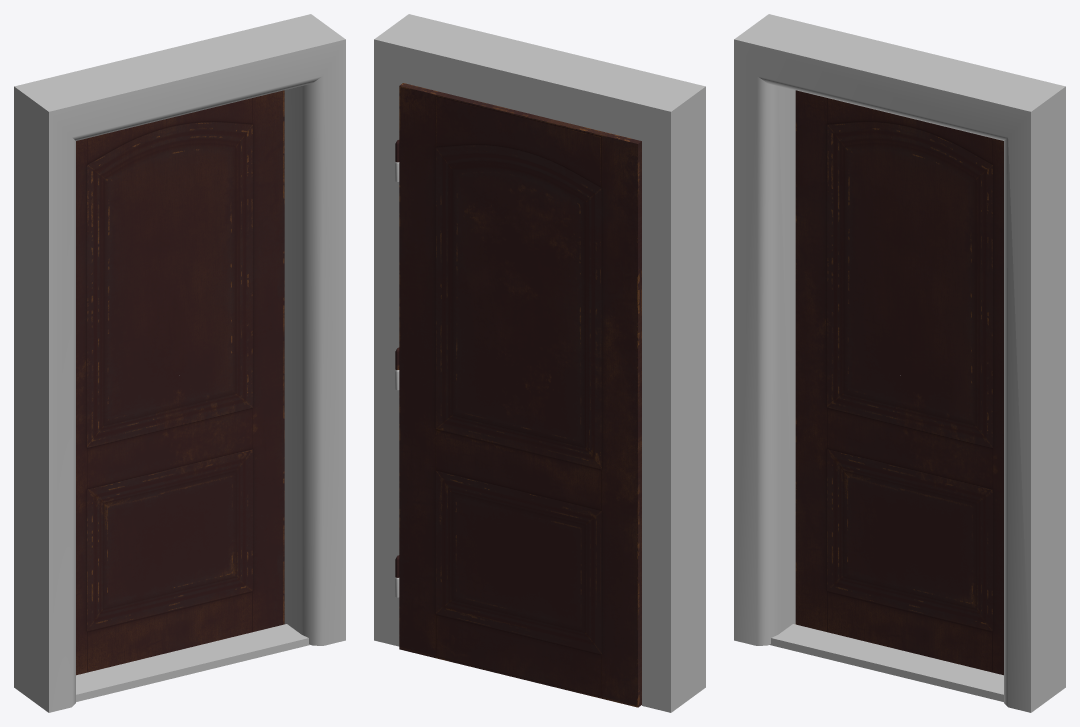
3 views of the same model, side by side, from view 1: azimuth 30°, elevation 25°; view 2: azimuth 150°, elevation 25°; view 3: azimuth 330°, elevation 25° (orthographic).
Visible parts, largest first — view 1: doorWing, jj_door_1_red; view 2: doorWing, jj_door_1_red; view 3: doorWing, jj_door_1_red.
Part boxes in pixels (x1=…): doorWing: x1=76, y1=90, x2=284, y2=675; jj_door_1_red: x1=14, y1=14, x2=345, y2=712; doorWing: x1=395, y1=83, x2=641, y2=707; jj_door_1_red: x1=374, y1=14, x2=705, y2=712; doorWing: x1=795, y1=90, x2=1003, y2=675; jj_door_1_red: x1=734, y1=14, x2=1065, y2=712.
Bounding box in the file's own units: 112 × 217 × 25.4.
